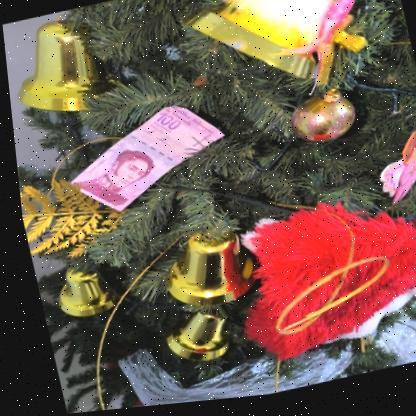one_hundred-front-vef: (50, 96, 233, 223)
